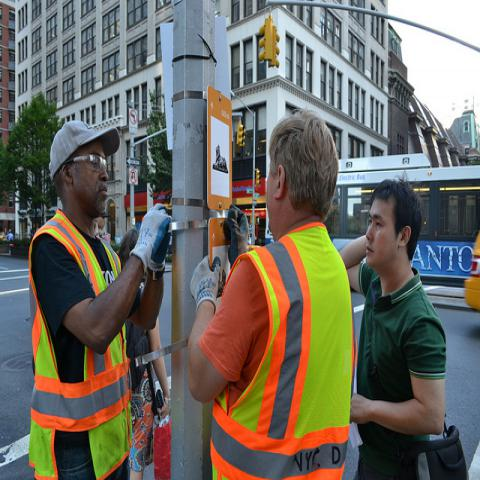bus: (325, 151, 479, 282)
car: (464, 230, 480, 313)
